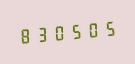eight: (17, 24, 32, 46)
five: (66, 20, 81, 42), (98, 17, 113, 39)
three: (33, 22, 48, 45)
zero: (50, 21, 65, 44), (82, 18, 97, 41)
